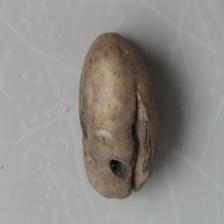Damaged potato: (77, 30, 161, 200)
